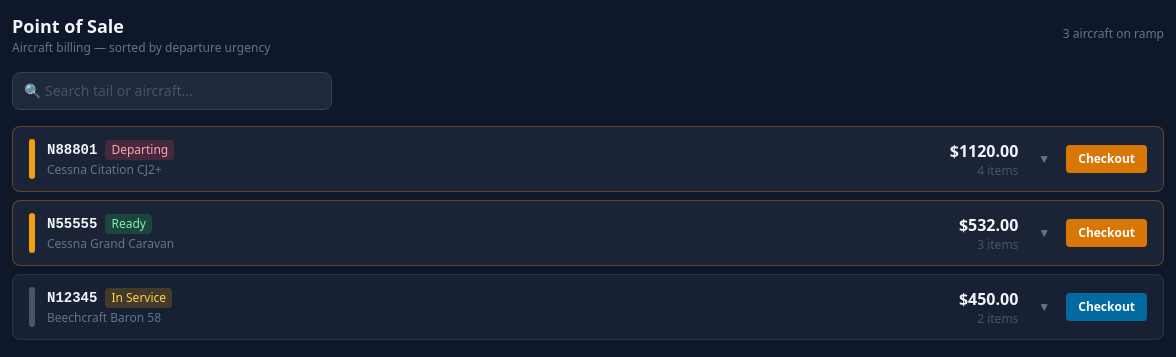
<POS /> — search › search by tail filters bills
The image size is (1176, 357).
Step 1. Type "N12345" into the field with placeholder "Search tail or aircraft…" → (172, 91), box [12, 72, 332, 110]
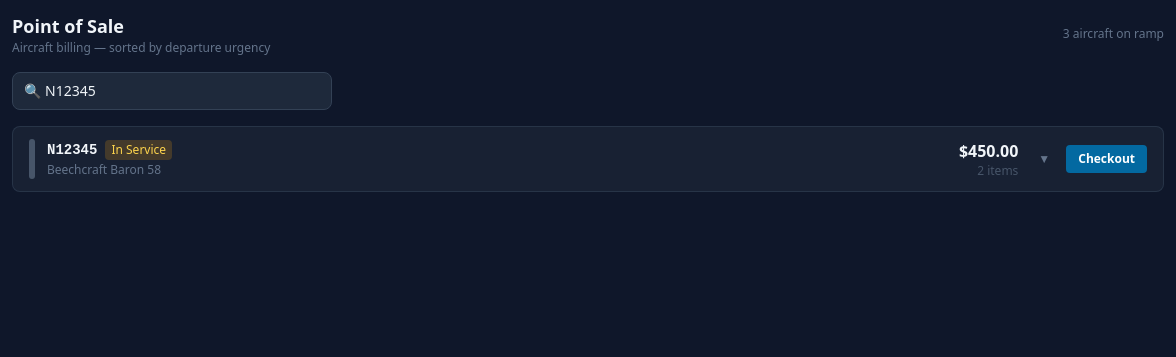
Expected: the text "N12345" is shown, [47, 140, 97, 160]
Now the text "N55555" is gone
